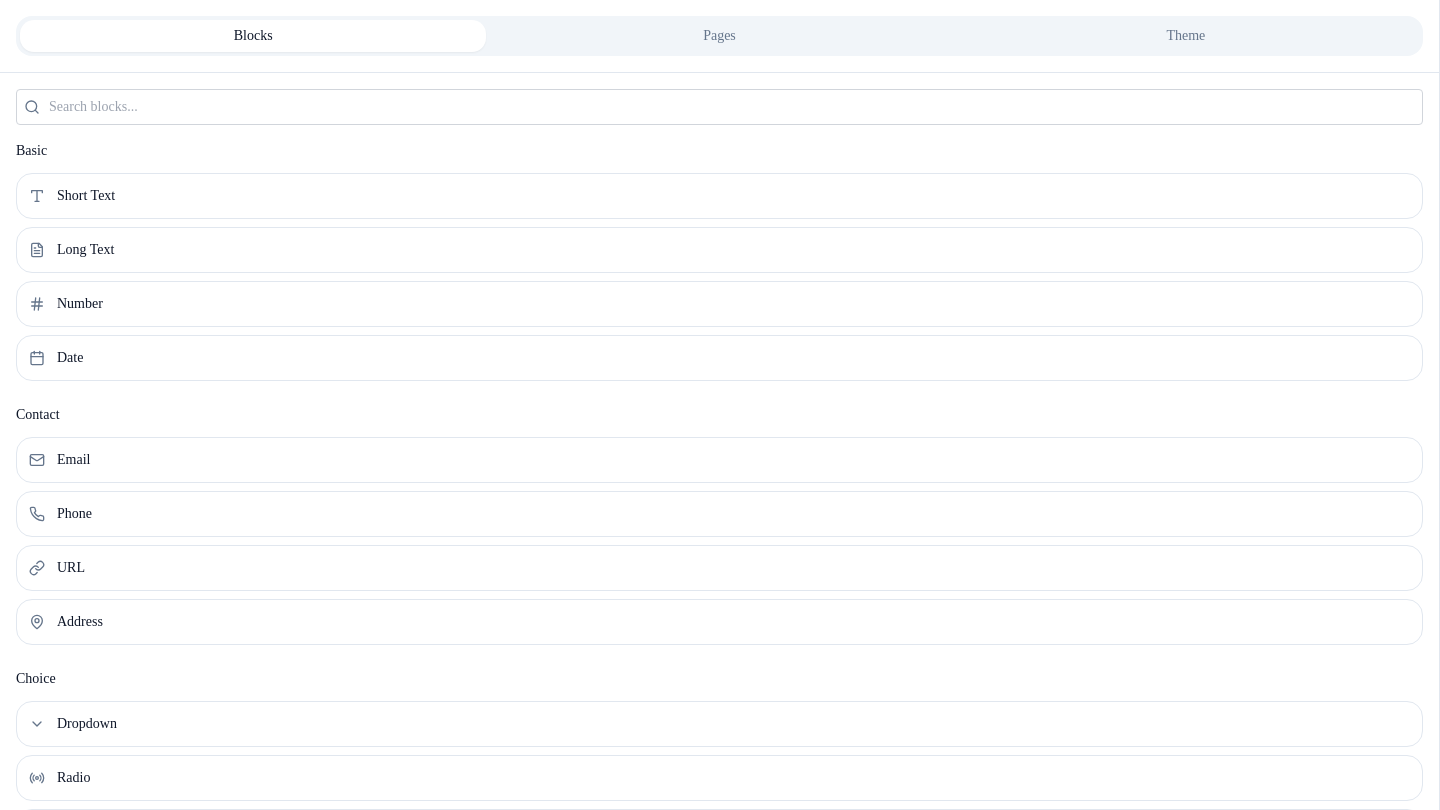
it: Sidebar › filters blocks by search term
This screenshot has width=1440, height=810.
Type "email" into the field with placeholder "Search blocks...".
click(720, 107); type("email")  # box [16,89,1423,125]
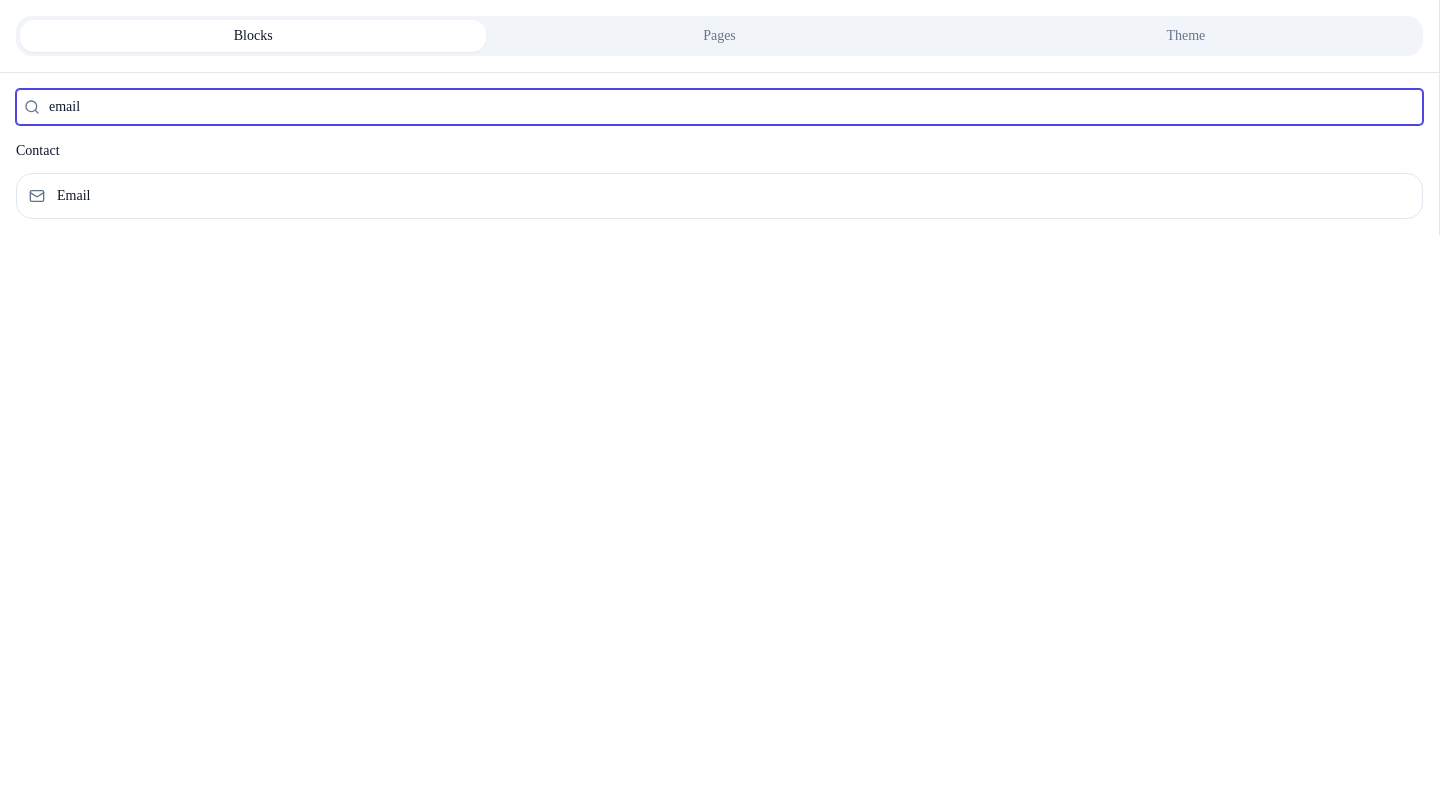
Check: the text "Email" is shown, box [57,186,90,206]
Check: the button "Short Text" is gone
